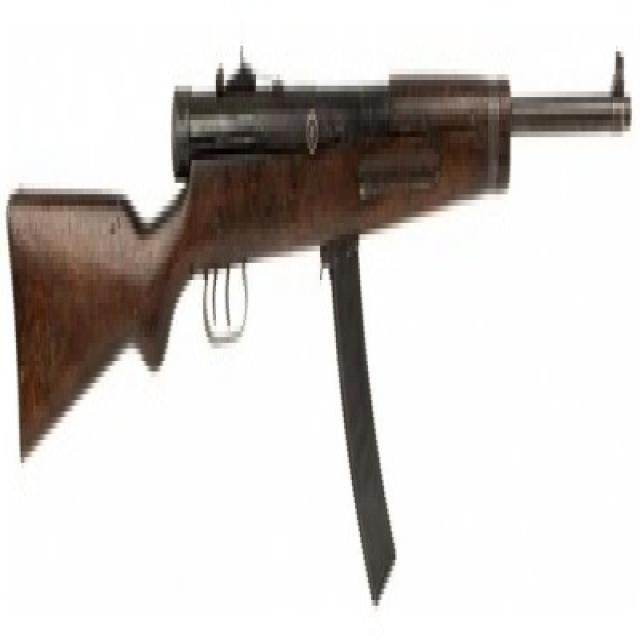rifle: (8, 22, 636, 638)
